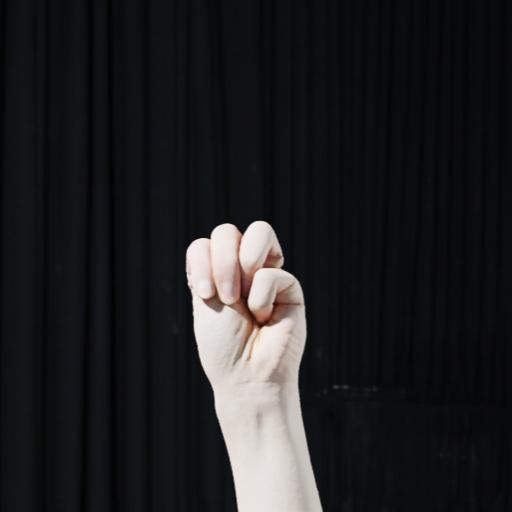M: (178, 215, 314, 391)
